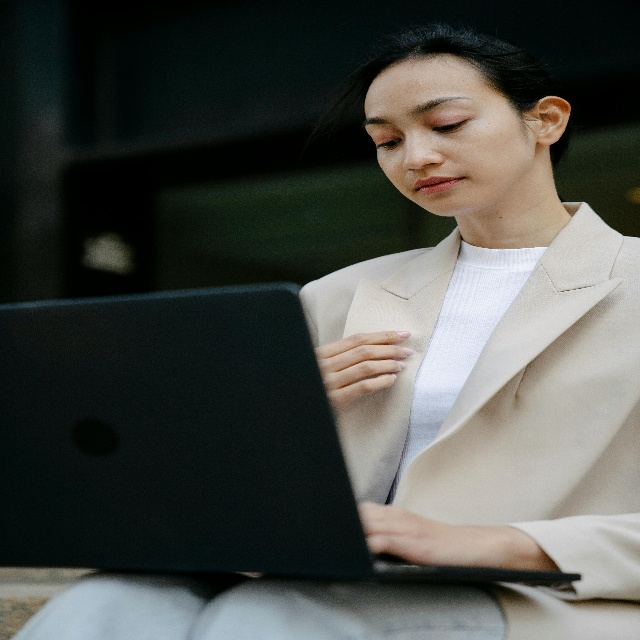Sin_guantes: (314, 324, 415, 414), (357, 496, 434, 567)
